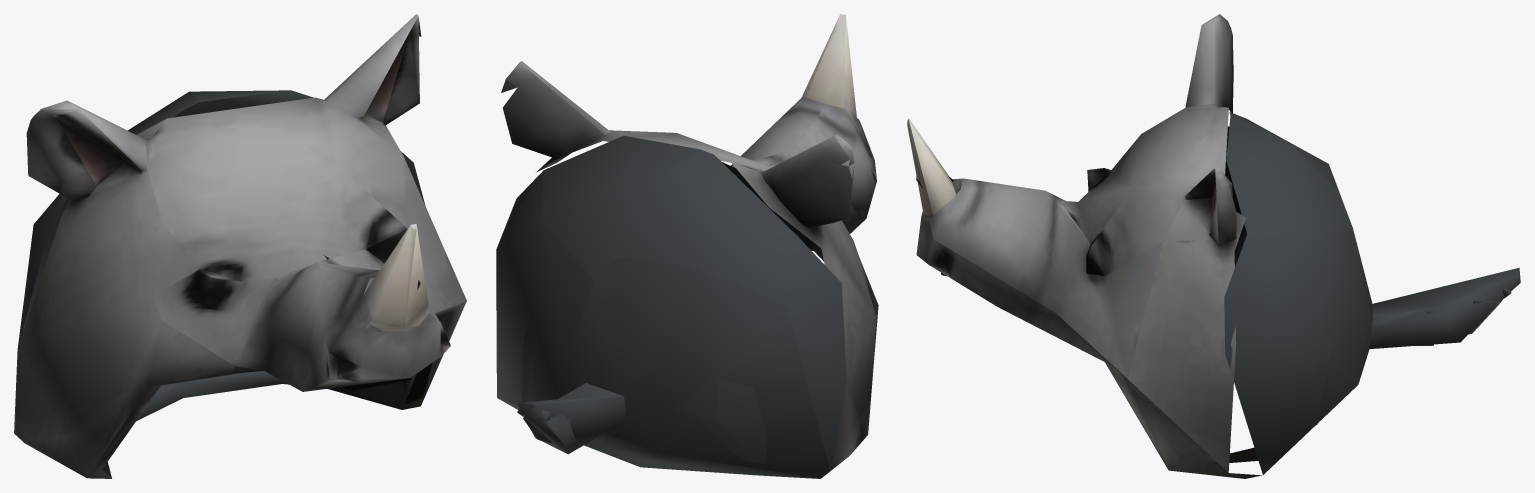
File: rhino.glb
3 renders of one model, left to right at view 1: azimuth 30°, elevation 25°; view 2: azimuth 150°, elevation 25°; view 3: azimuth 270°, elevation 25°, orthographic. The views are drawn at different scales.
Parts seen in each view (by area): view 1: geometry_0; view 2: geometry_0; view 3: geometry_0.
Part boxes in pixels (bbox=[...]): geometry_0: bbox=[14, 14, 466, 478]; geometry_0: bbox=[496, 14, 878, 478]; geometry_0: bbox=[907, 14, 1520, 478].
Size of the model in its own units: 0.4661 by 0.4104 by 0.7073.
Materials: 2 (1 with a texture image).
